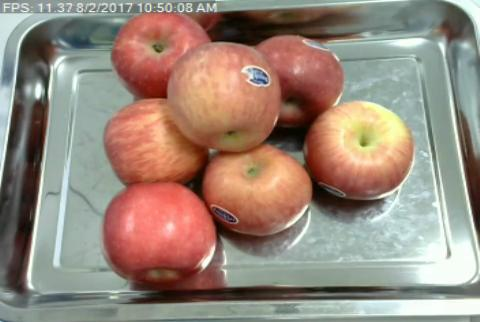apple: (169, 41, 282, 152), (103, 181, 217, 287), (306, 100, 415, 200), (202, 144, 312, 236), (104, 98, 207, 181), (110, 13, 210, 96), (271, 34, 346, 123)
